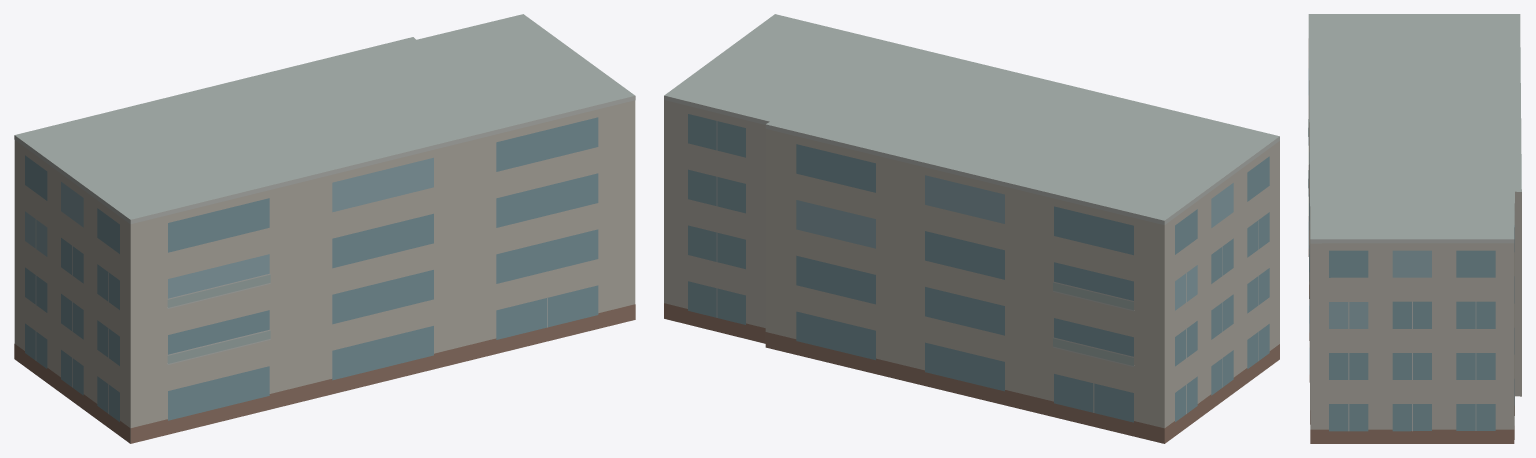
File: survey-upis-32984928.glb
The picture shows the model from 3 angles, left to right: view 1: azimuth 30°, elevation 25°; view 2: azimuth 150°, elevation 25°; view 3: azimuth 270°, elevation 25°; orthographic projection. The views are drawn at different scales.
Parts seen in each view (by area): view 1: survey-upis-32984928.tmp; view 2: survey-upis-32984928.tmp; view 3: survey-upis-32984928.tmp.
Part boxes in pixels (x1,y1,x2,y2): survey-upis-32984928.tmp: (14,14,635,443); survey-upis-32984928.tmp: (664,14,1279,443); survey-upis-32984928.tmp: (1308,14,1521,443).
Size of the model in its own units: 28.85 by 12.2 by 11.57.
